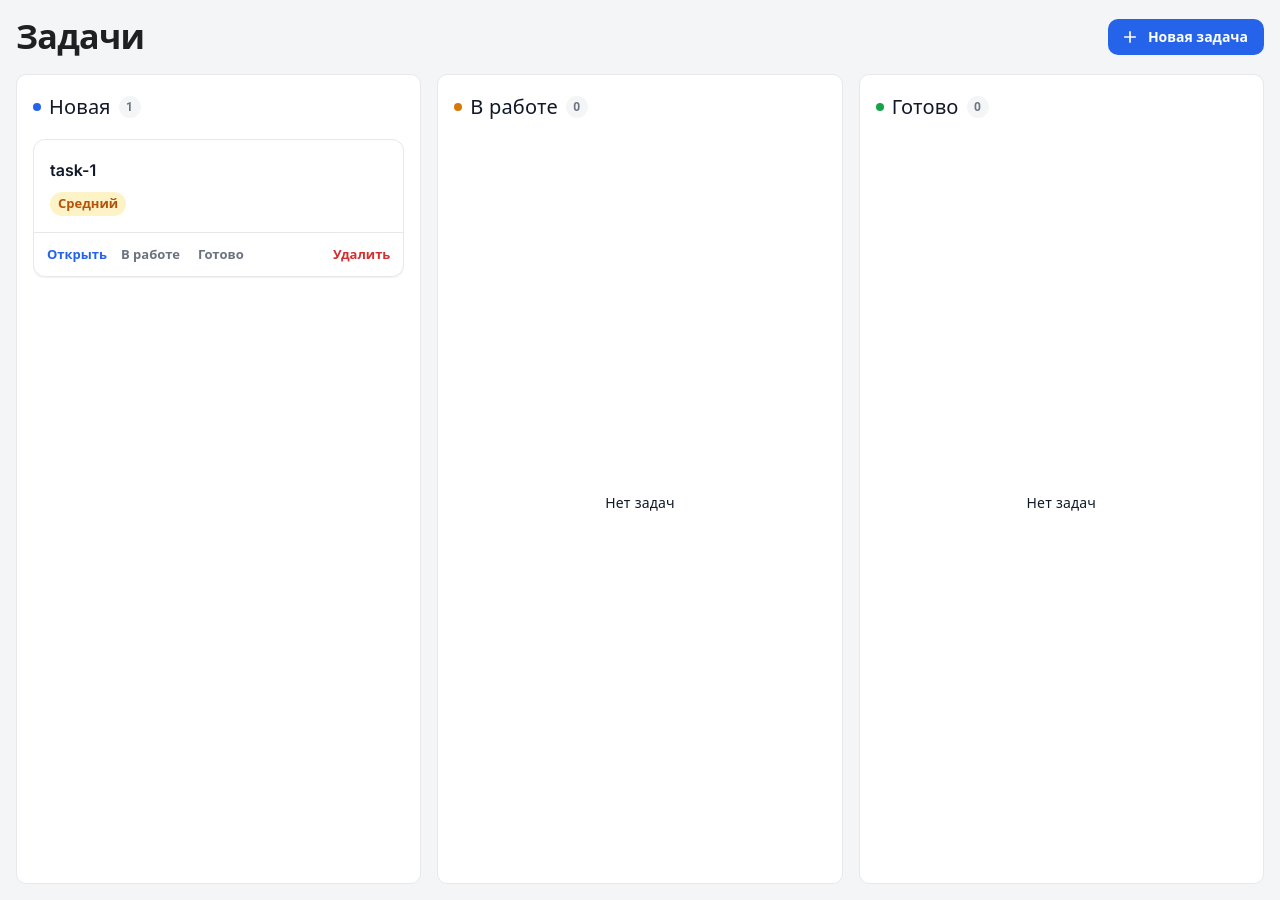
Scenario: BoardPage › closes the dialog and offers to reload when the saved list fails to refresh
Expected: the button with aria-label "Открыть задачу task-1" is shown, [34,140,403,232]
Click the button "Новая задача".
click(1186, 37)  # box [1108,19,1264,55]
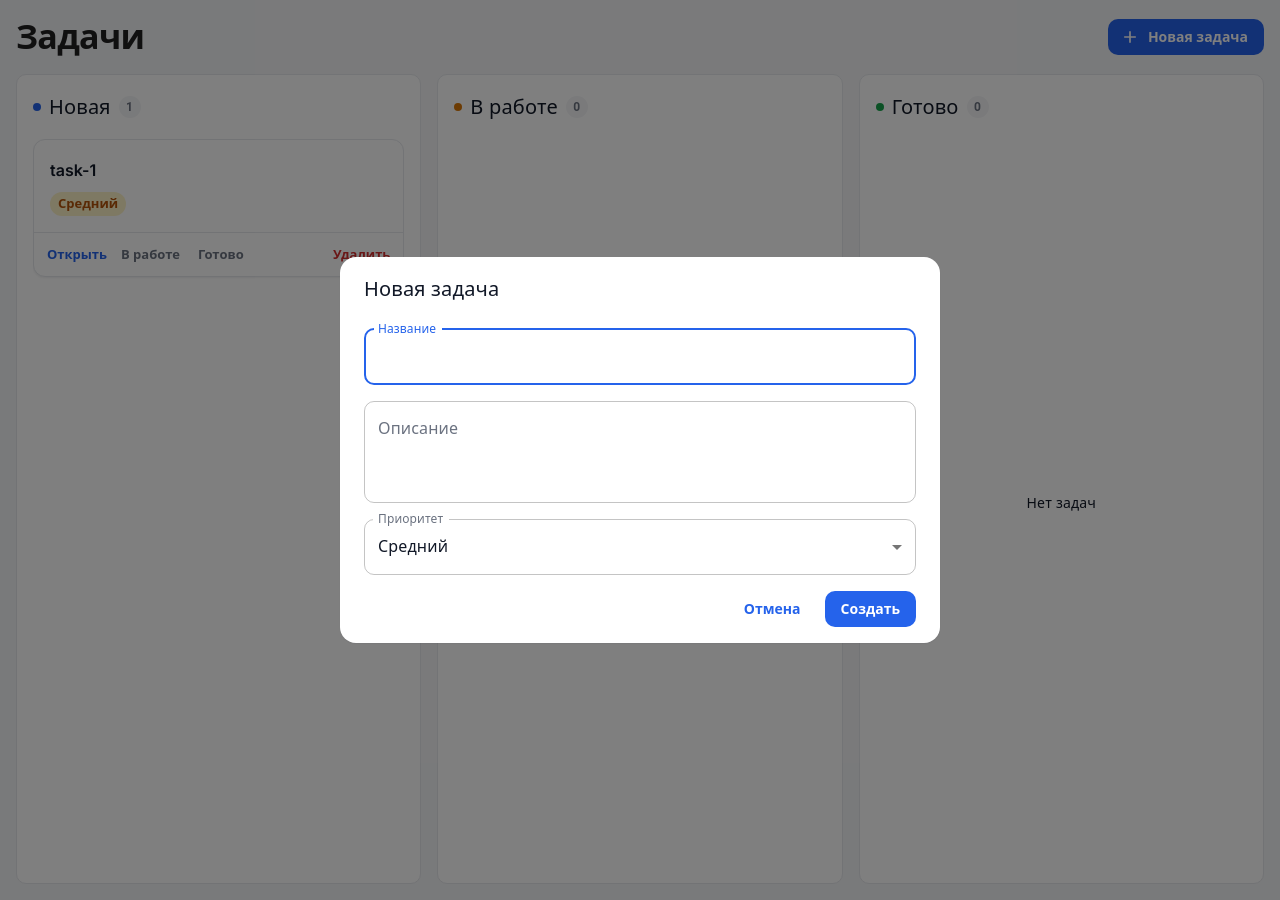
Type "task-2" into the field labelled "Название".
click(640, 357); type("task-2")  # box [364,329,916,385]
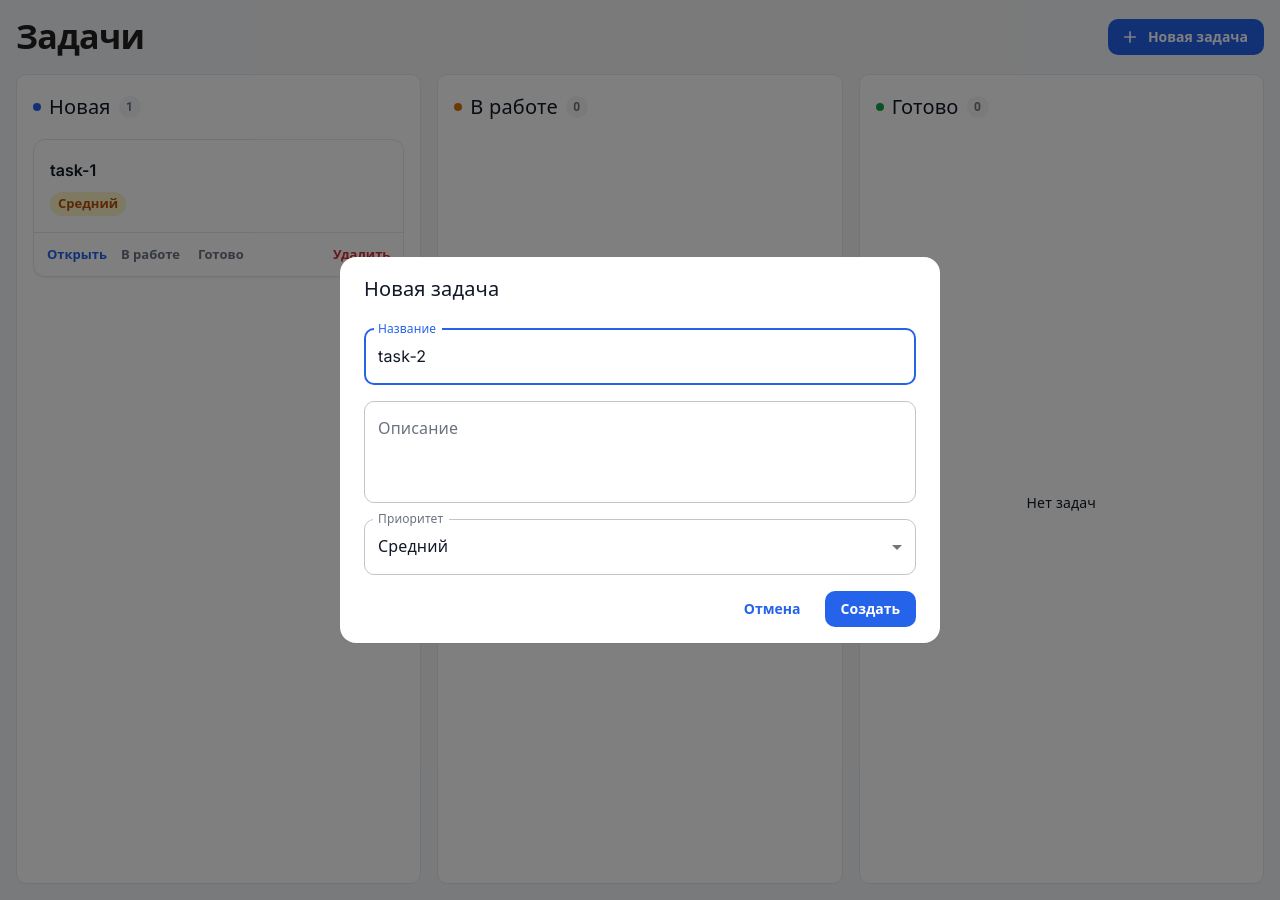
Click the button "Создать".
click(870, 609)  # box [824,591,916,627]
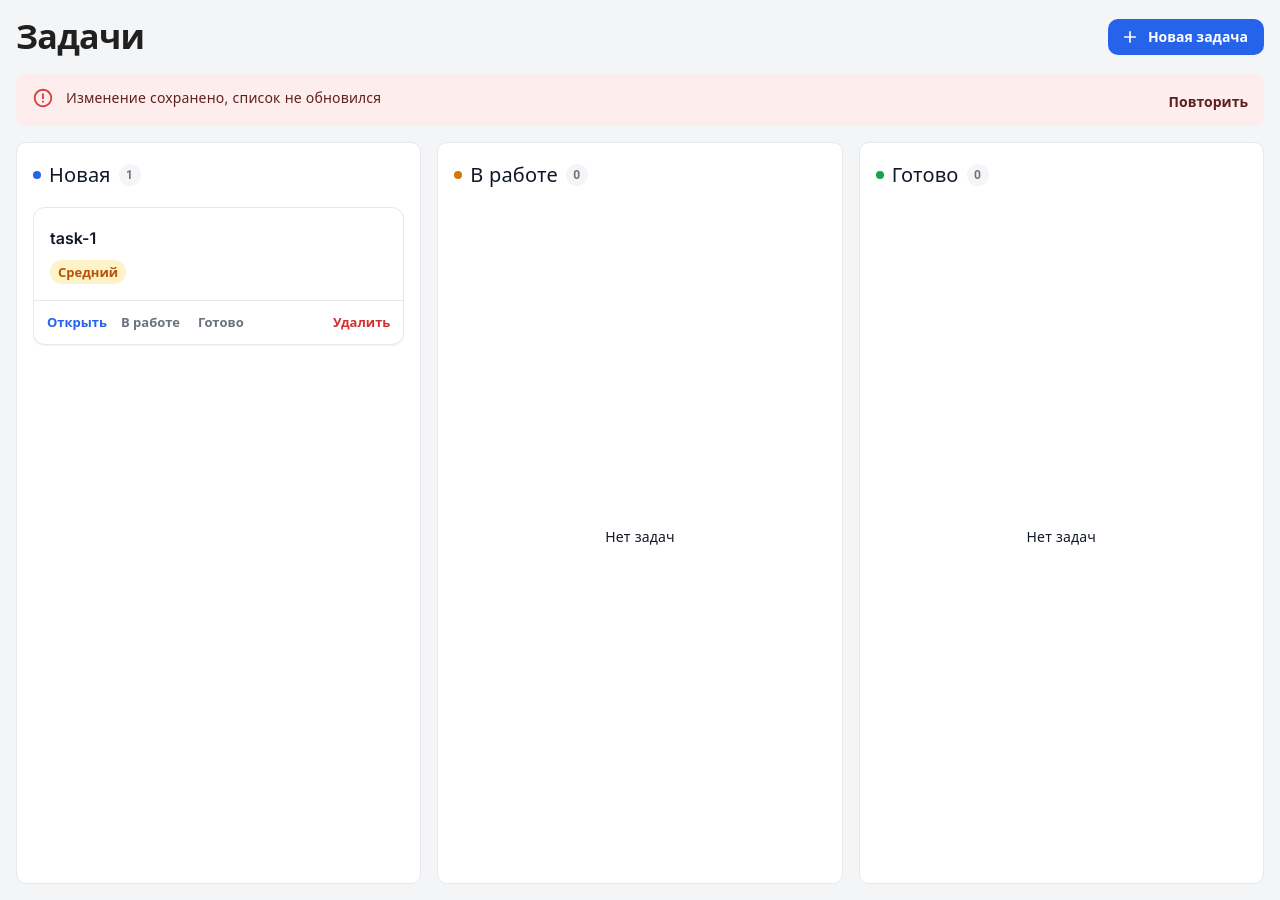
Expected: the button with aria-label "Открыть задачу task-1" is shown, [34,208,403,300]
Expected: the text "Изменение сохранено, список не обновился" is shown, [66,89,381,106]
Expected: the dialog is gone
Click the button "Повторить".
click(1208, 102)  # box [1160,84,1256,120]
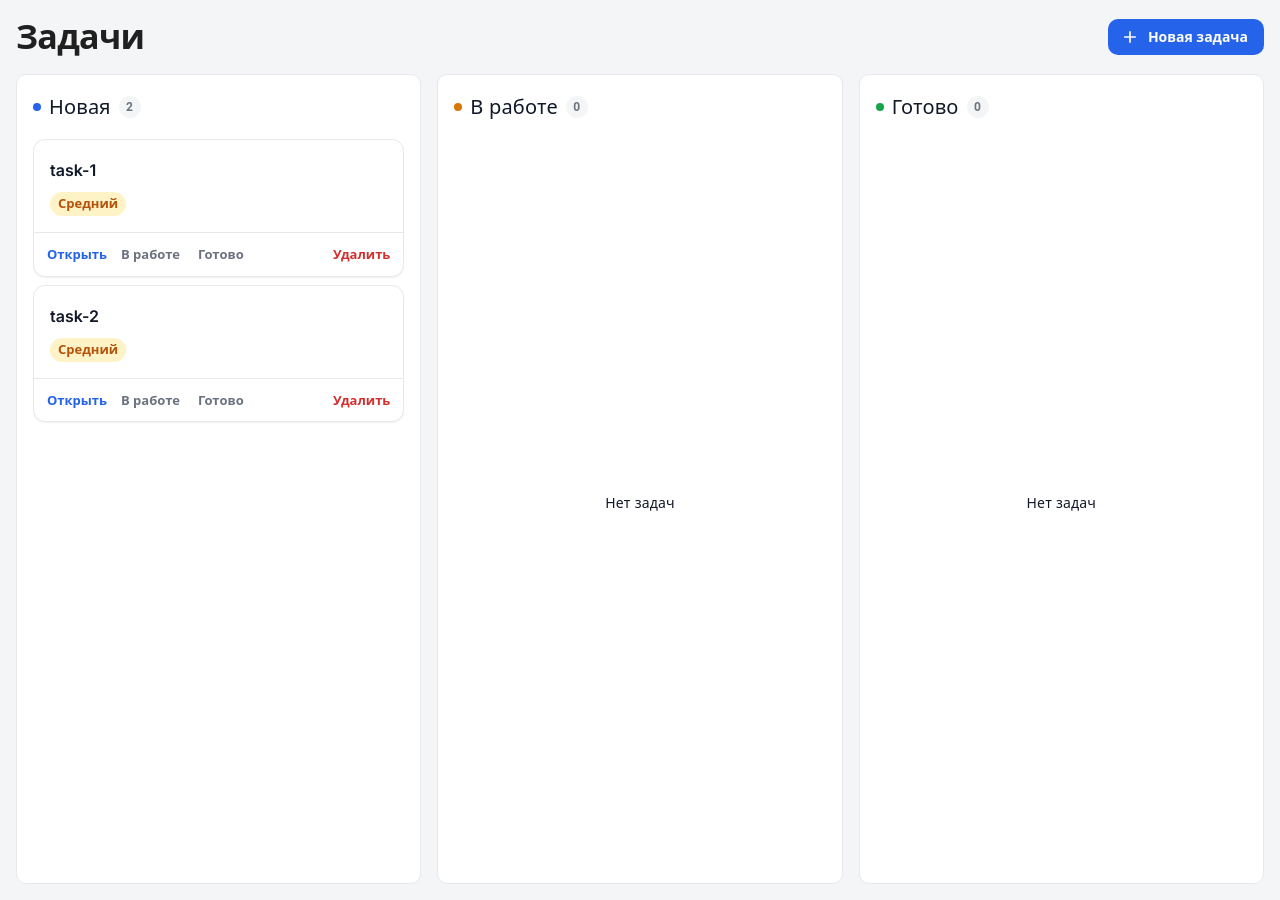
Expected: the button with aria-label "Открыть задачу task-2" is shown, [34,286,403,378]
Expected: the text "Изменение сохранено, список не обновился" is gone
